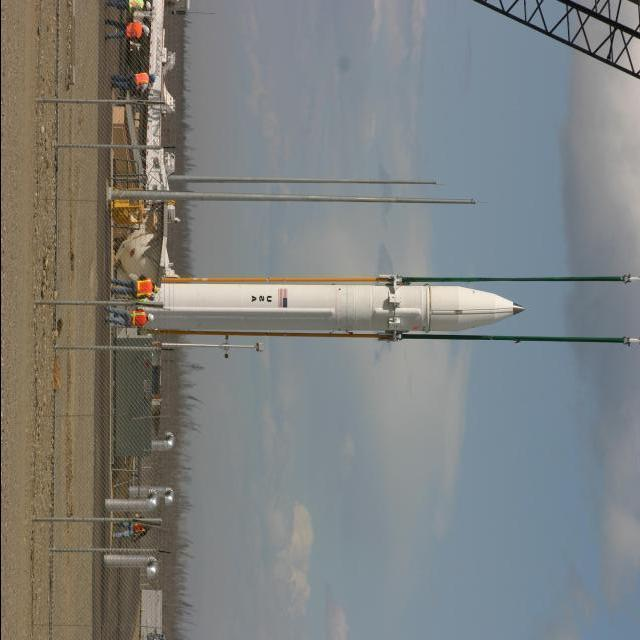missile: (113, 266, 538, 351)
